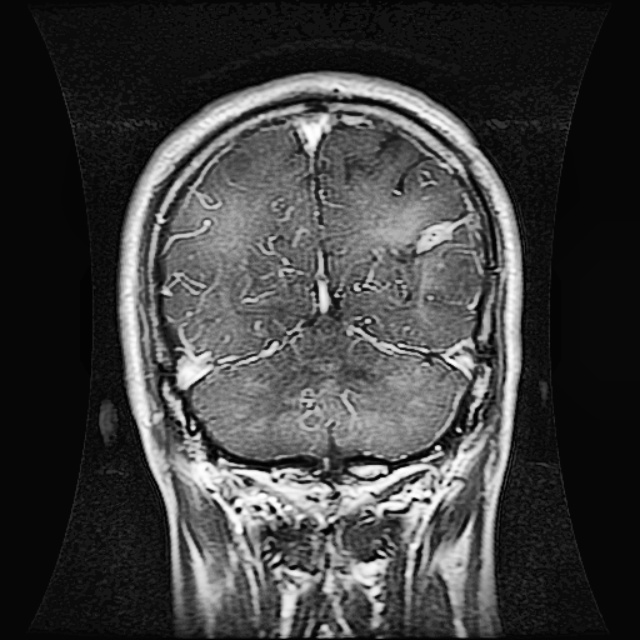Meningioma: (370, 219, 457, 308)
